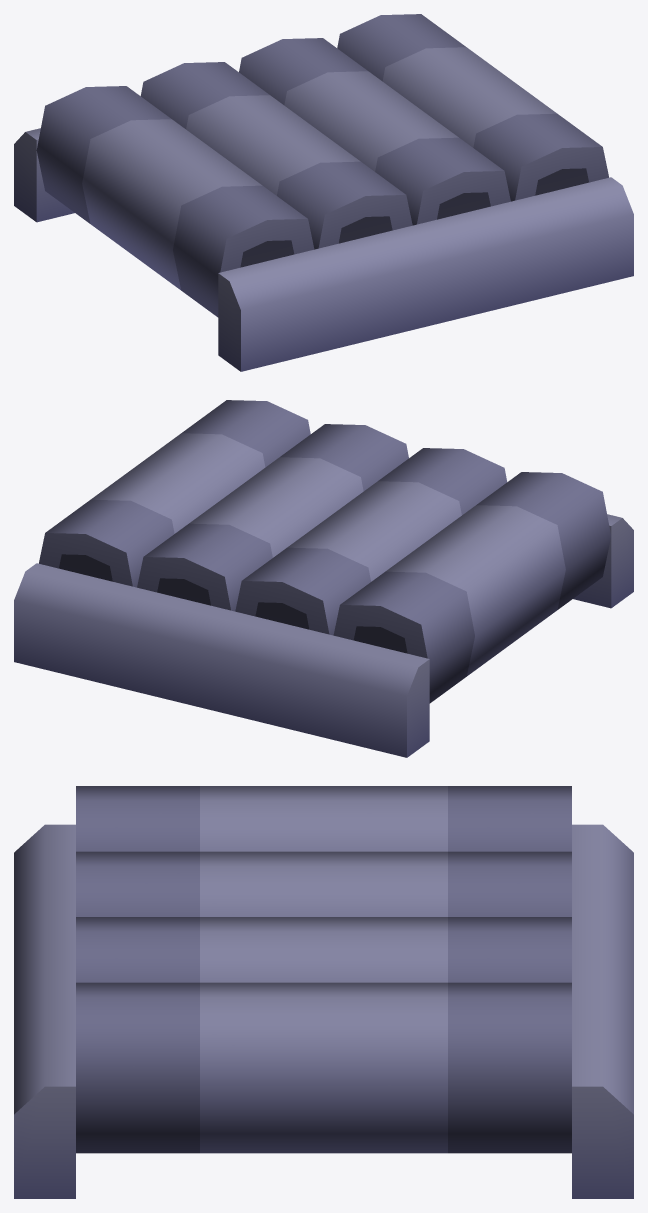
File: conveyor-bars-stripe-side.glb
The picture shows the model from 3 angles, top to bottom: view 1: azimuth 30°, elevation 25°; view 2: azimuth 150°, elevation 25°; view 3: azimuth 270°, elevation 25°; orthographic projection. The views are drawn at different scales.
Parts seen in each view (by area): view 1: conveyor-bars-stripe-side; view 2: conveyor-bars-stripe-side; view 3: conveyor-bars-stripe-side.
Part boxes in pixels (x1=…): conveyor-bars-stripe-side: x1=14, y1=14, x2=633, y2=371; conveyor-bars-stripe-side: x1=14, y1=400, x2=633, y2=757; conveyor-bars-stripe-side: x1=14, y1=786, x2=633, y2=1198.
Size of the model in its own units: 1 by 0.3 by 1.
